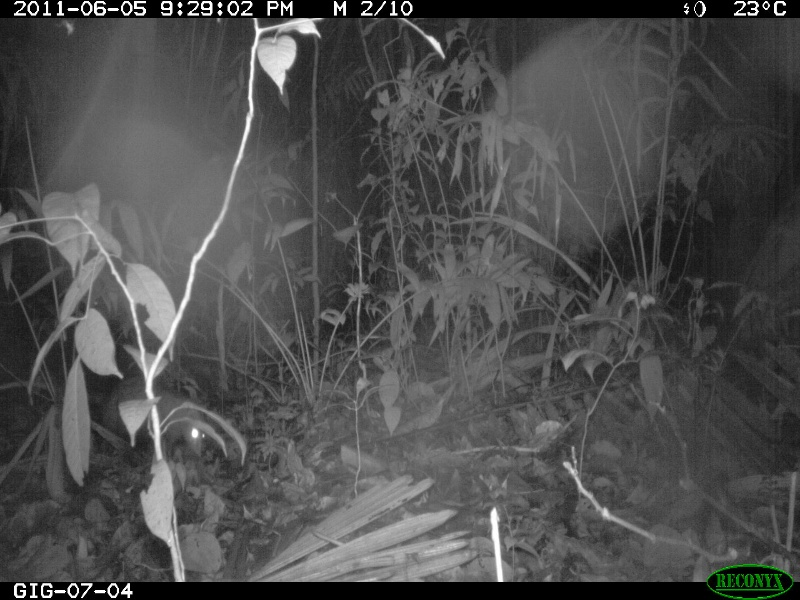opossum: (91, 370, 210, 455)
